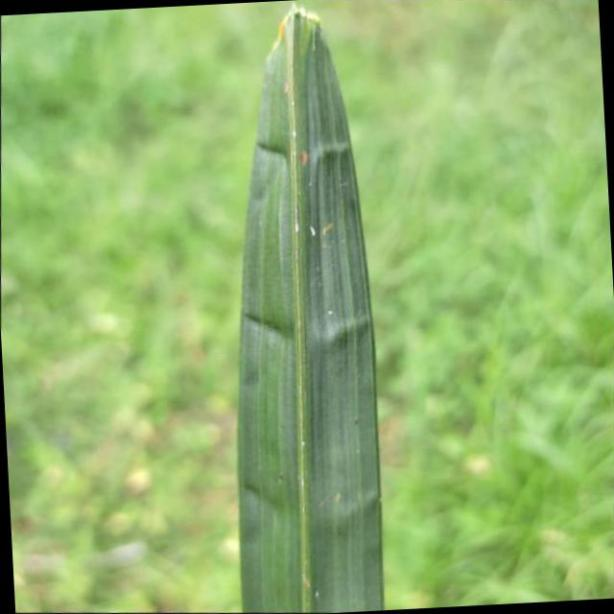Boron: (234, 0, 385, 614)
